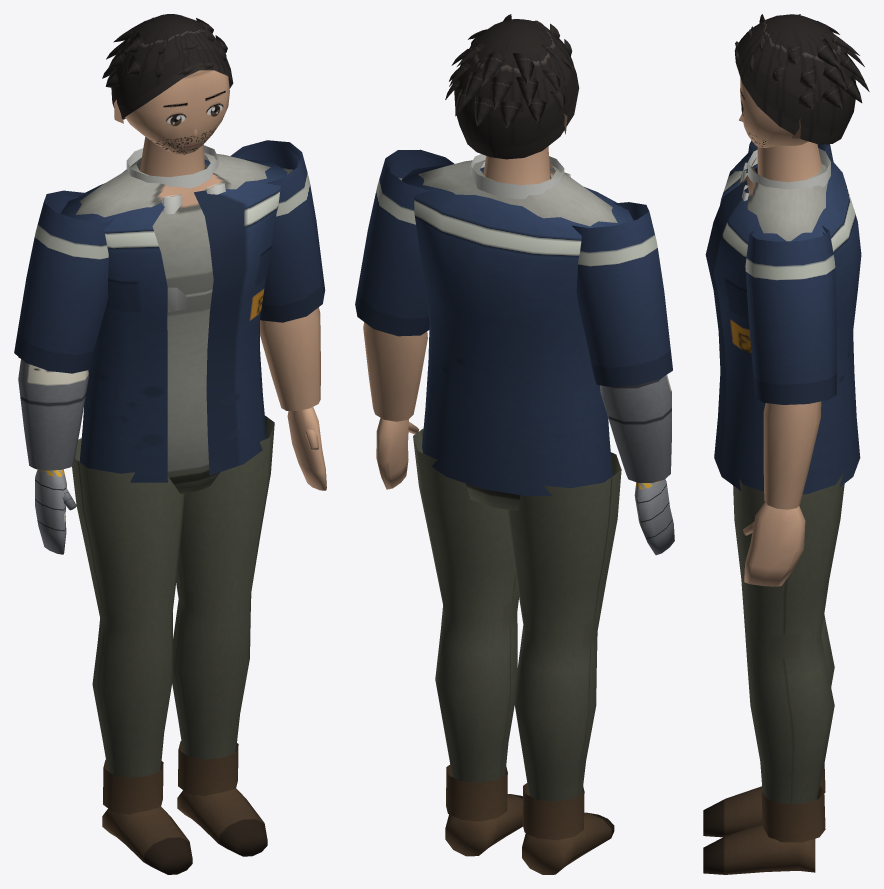
Rendered from NPC_Luo.fbx.
The picture shows the model from 3 angles, left to right: view 1: azimuth 30°, elevation 25°; view 2: azimuth 150°, elevation 25°; view 3: azimuth 270°, elevation 25°; orthographic projection. The views are drawn at different scales.
Parts seen in each view (by area): view 1: Luo_Body, Luo_Head; view 2: Luo_Body, Luo_Head; view 3: Luo_Body, Luo_Head.
Part boxes in pixels (bbox=[...]): Luo_Body: bbox=[14, 137, 326, 874]; Luo_Head: bbox=[102, 14, 233, 154]; Luo_Body: bbox=[355, 146, 674, 874]; Luo_Head: bbox=[445, 14, 579, 159]; Luo_Body: bbox=[703, 140, 861, 874]; Luo_Head: bbox=[734, 14, 869, 148].
Size of the model in its own units: 0.6843 by 1.78 by 0.3227.
